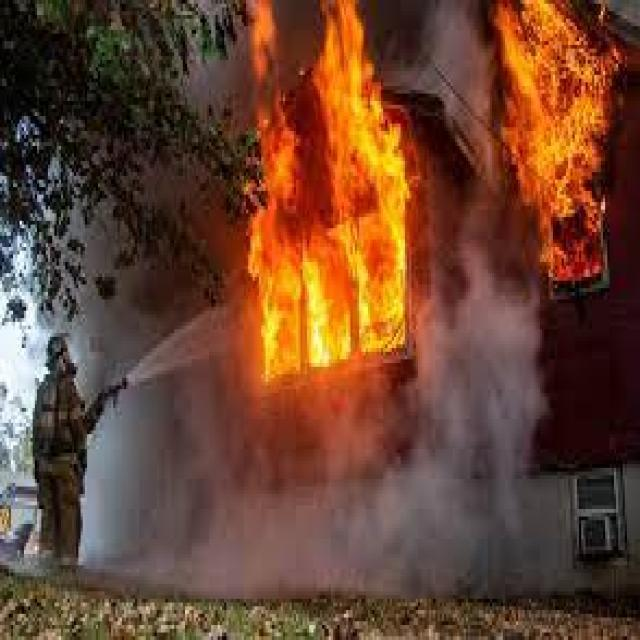Fire: (255, 1, 411, 398), (494, 1, 616, 278)
Smoke: (142, 385, 454, 605), (412, 218, 550, 586)
